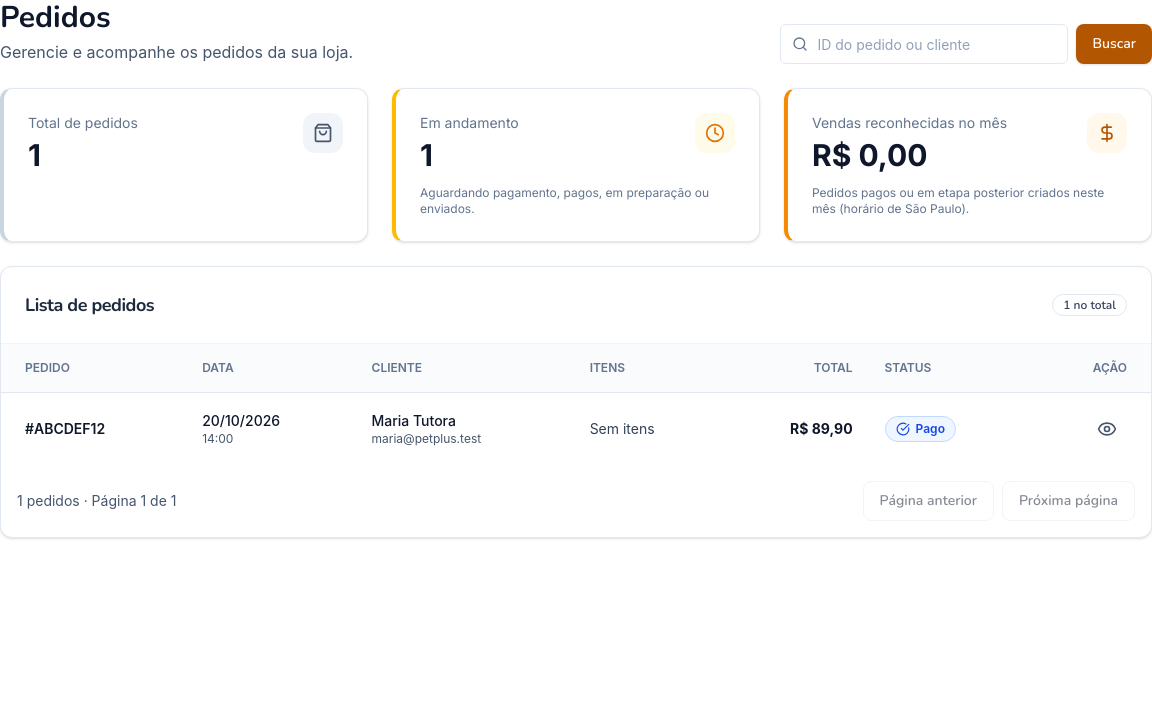
it: pedido antigo, sem endereço gravado, avisa em vez de quebrar
Click the button named "Ver detalhes do pedido #" at (1107, 428), box [1087,408,1127,448]
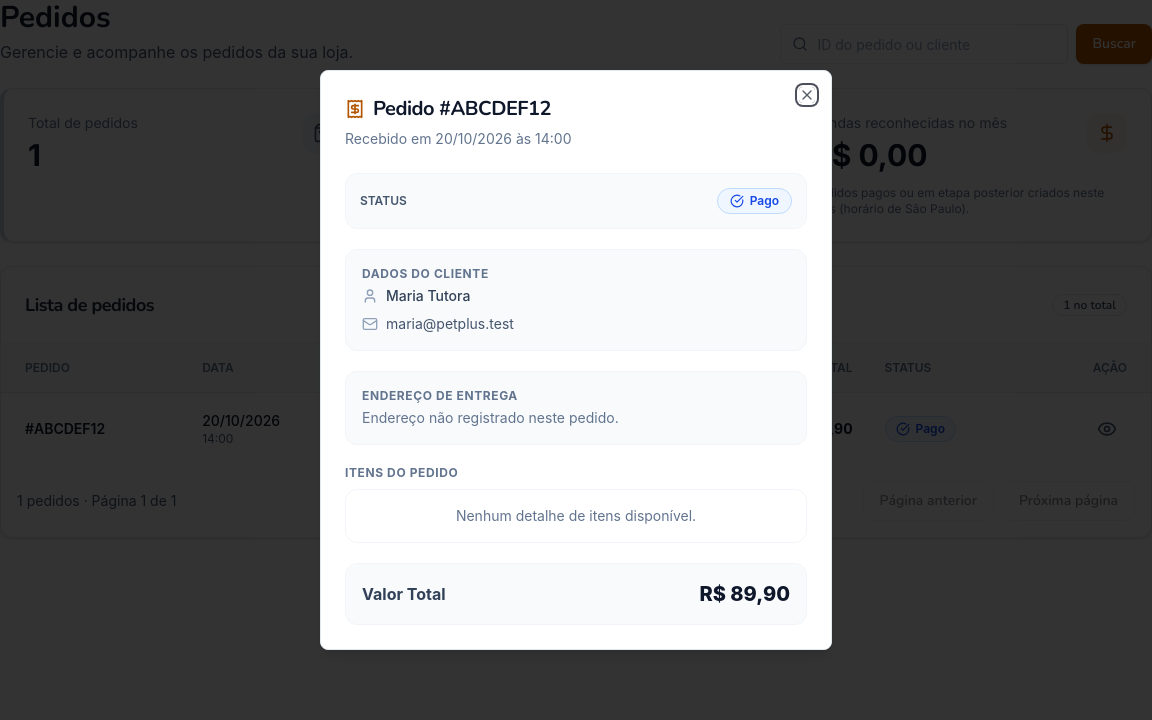
Result: the text "Endereço não registrado neste pedido." is shown at [362,409,619,426]
